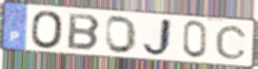0: (182, 19, 209, 61)
B: (66, 12, 102, 52)
C: (214, 25, 249, 61)
J: (141, 17, 175, 59)
O: (30, 9, 65, 50), (104, 14, 138, 55)
